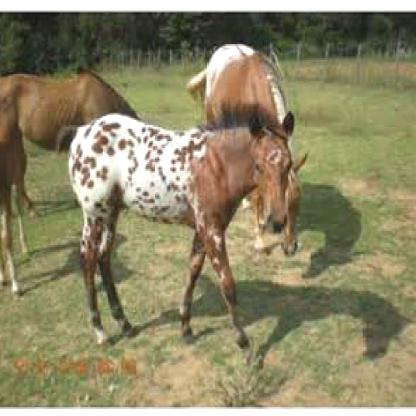horse: (68, 109, 295, 351), (2, 72, 139, 293), (184, 44, 306, 259)
